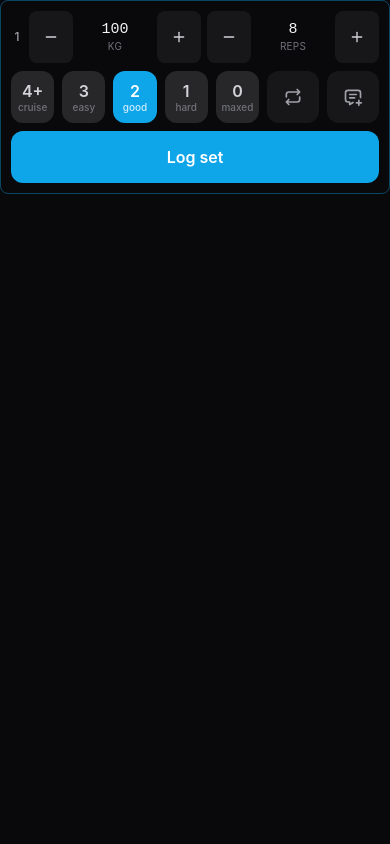
Test: SetLoggerRow feedback sheet › shows a logged discomfort as a summary row with a Remove affordance
This screenshot has width=390, height=844.
Click the button named "Add set feedback".
click(353, 97)  # box [327, 71, 379, 123]
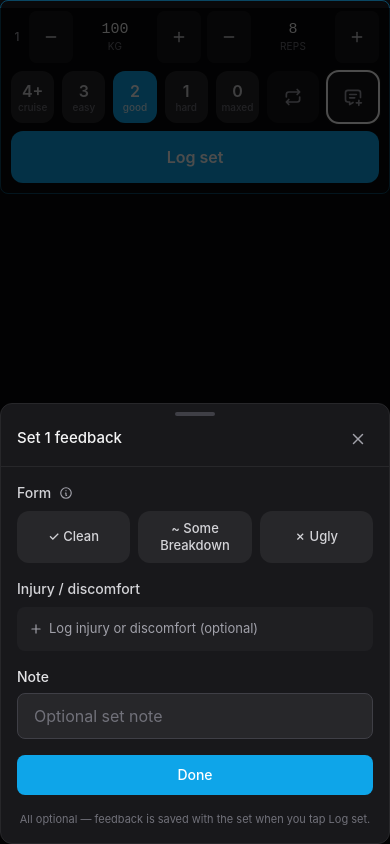
Click the button "Log injury or discomfort (optional)".
click(195, 628)  # box [17, 606, 373, 650]
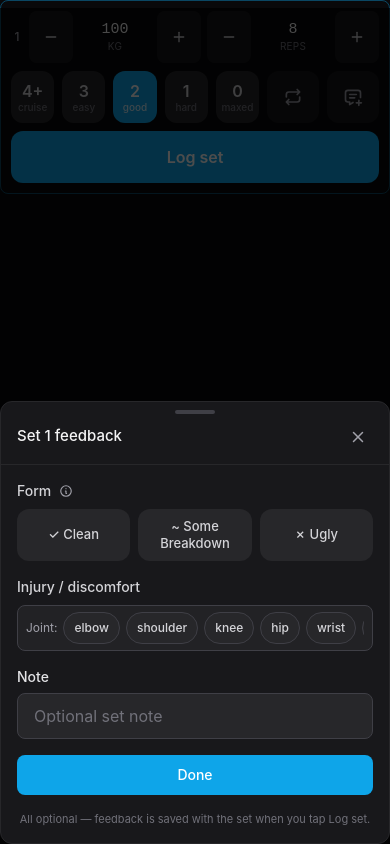
Click the button with test id "joint-chip-shoulder".
click(162, 628)  # box [126, 612, 198, 644]
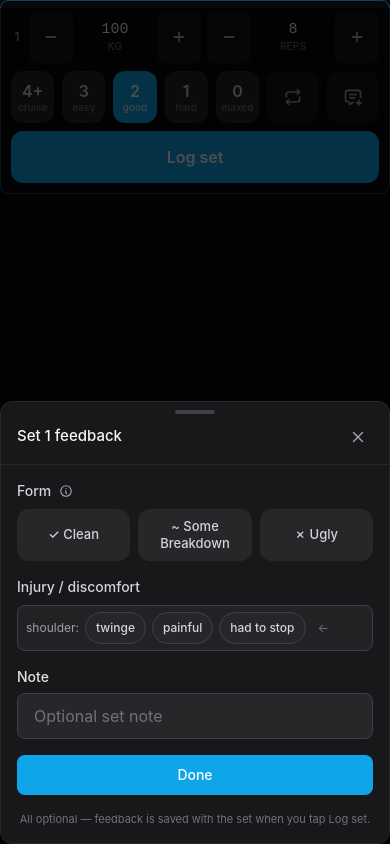
Click the button with test id "joint-severity-chip-twinge".
click(116, 628)  # box [85, 612, 146, 644]
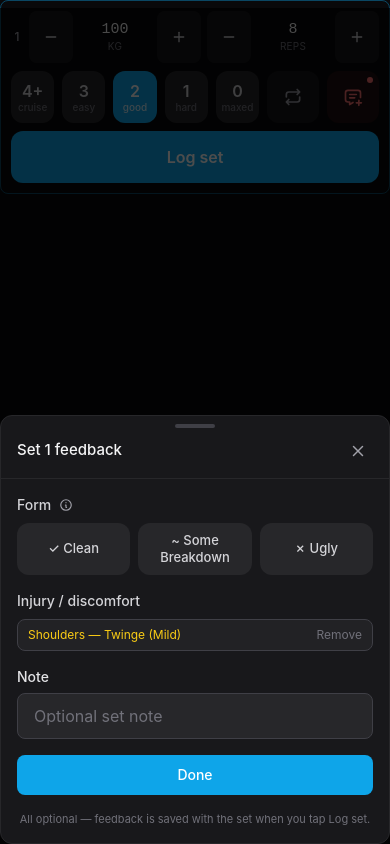
Expected: the text "Shoulders — Twinge (Mild)" is shown, [28, 626, 181, 644]
Click the button with aria-label "Remove discomfort".
click(339, 634)  # box [316, 626, 362, 644]
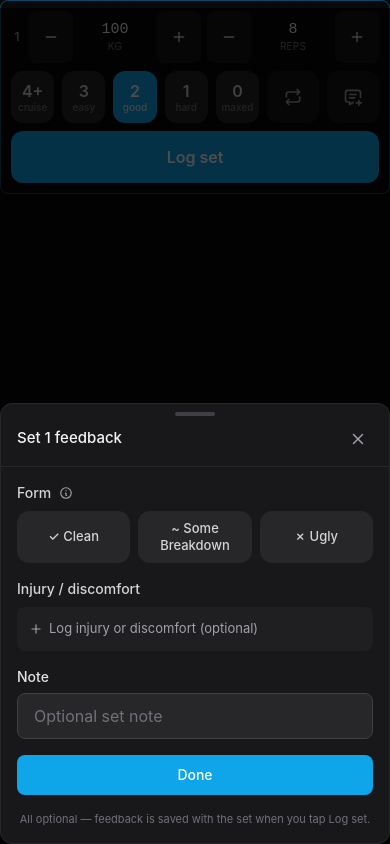
Expected: the button "Log injury or discomfort (optional)" is shown, [17, 606, 373, 650]
